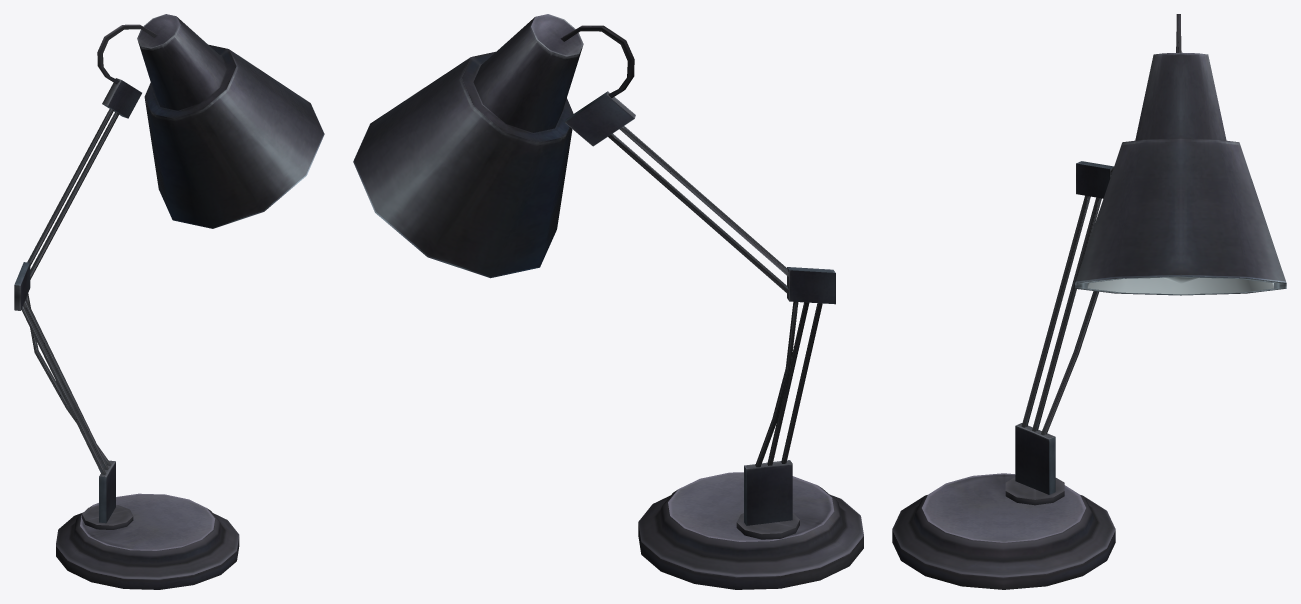
File: G_ShenXunShi_taideng_01_uv2.FBX
The picture shows the model from 3 angles, left to right: view 1: azimuth 30°, elevation 25°; view 2: azimuth 150°, elevation 25°; view 3: azimuth 270°, elevation 25°; orthographic projection. The views are drawn at different scales.
Visible parts, largest first — view 1: pCylinder4; view 2: pCylinder4; view 3: pCylinder4.
Boxes of the visible parts, box(x1,y1,x2,y2) form: pCylinder4: box(14, 14, 324, 589); pCylinder4: box(353, 14, 863, 589); pCylinder4: box(892, 14, 1286, 589).
Size of the model in its own units: 57.99 by 75.64 by 48.61.
